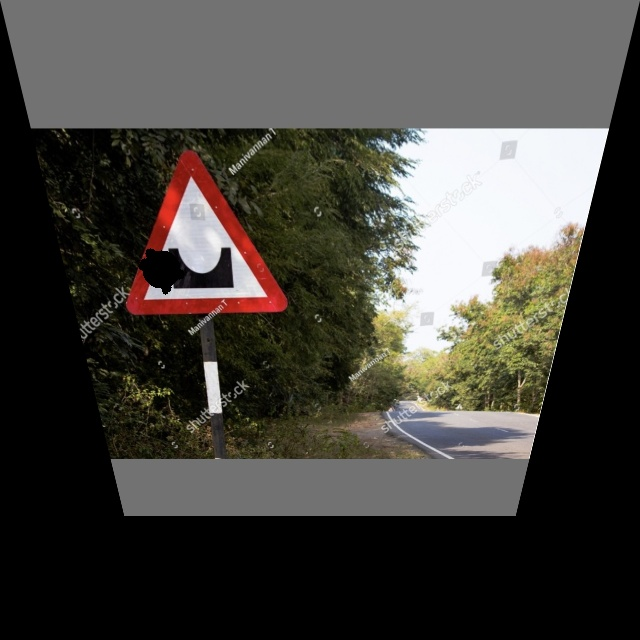Dangerous_Dip: (96, 152, 284, 313)
